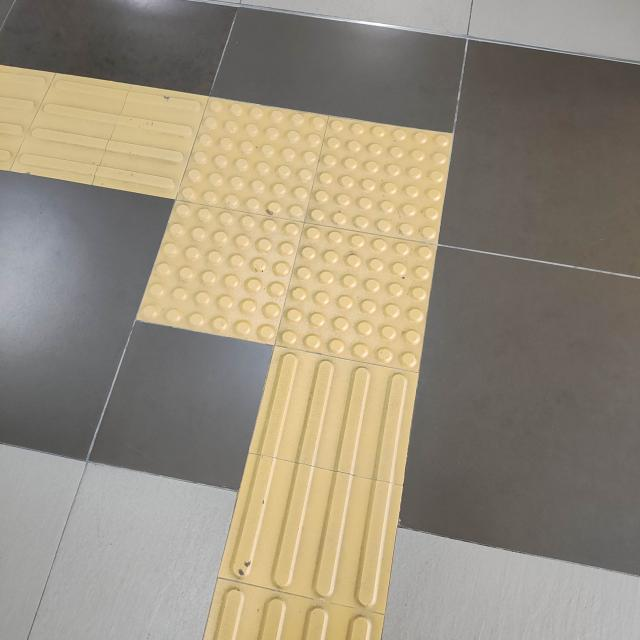kiri: (26, 41, 502, 480)
